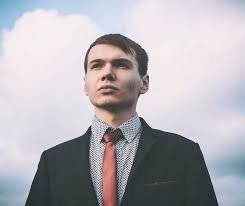noMask: (75, 30, 155, 109)
